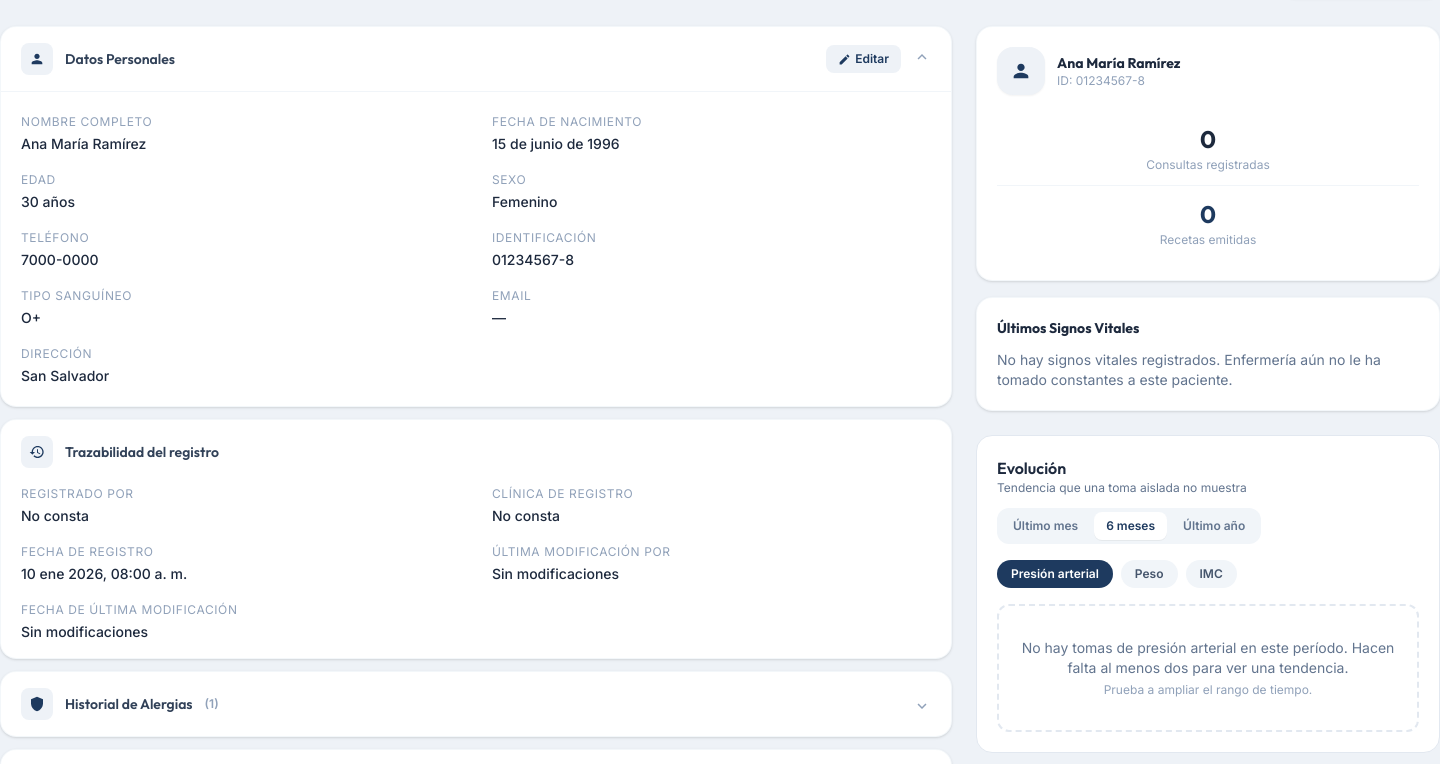
Test case: expediente · alergias del paciente (HU-11) › el administrador consulta las alergias pero no las agrega ni elimina
Step 1. Click the button "Historial de Alergias (1)" → (37, 704), box [21,688,901,720]
(page scrolled)
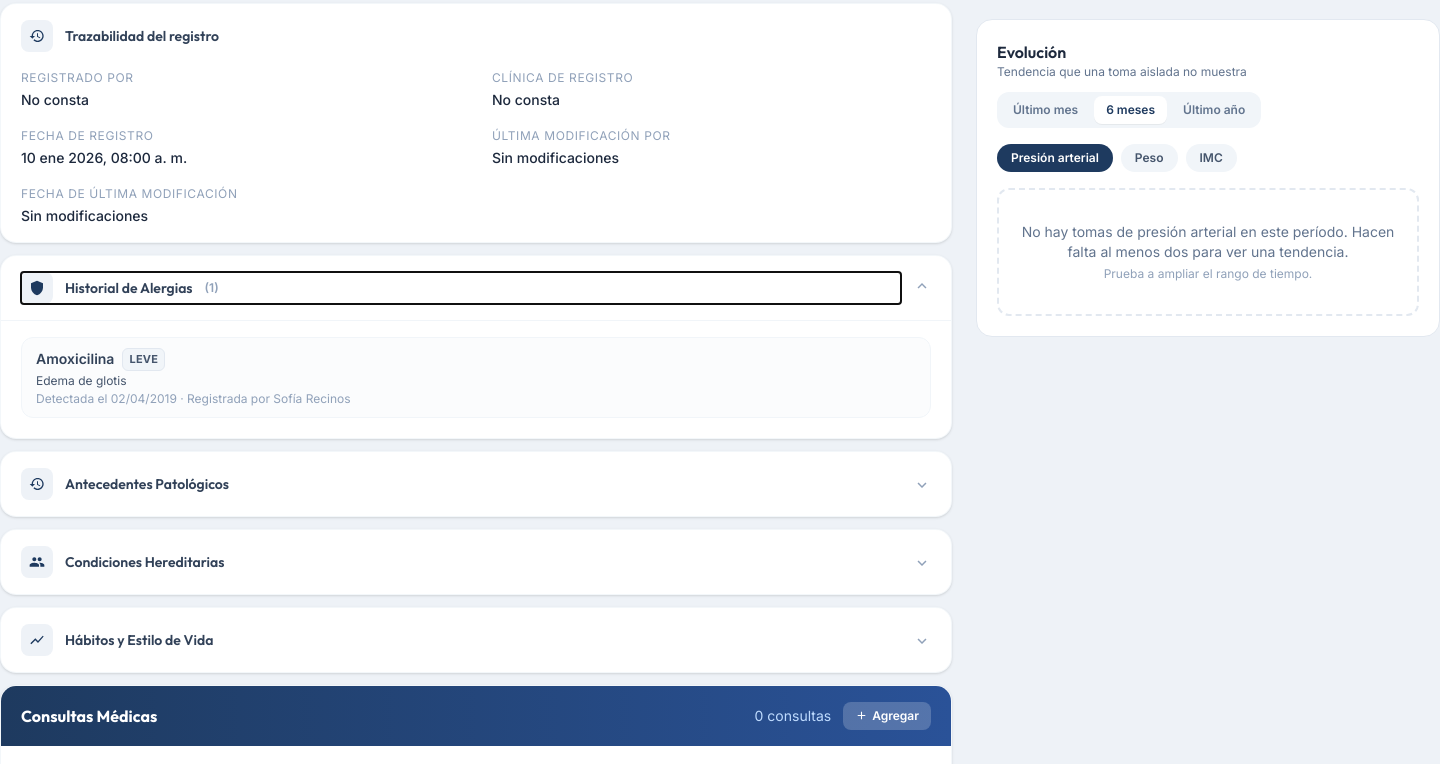
Expected: the text "Amoxicilina" is shown, [36,349,114,369]
